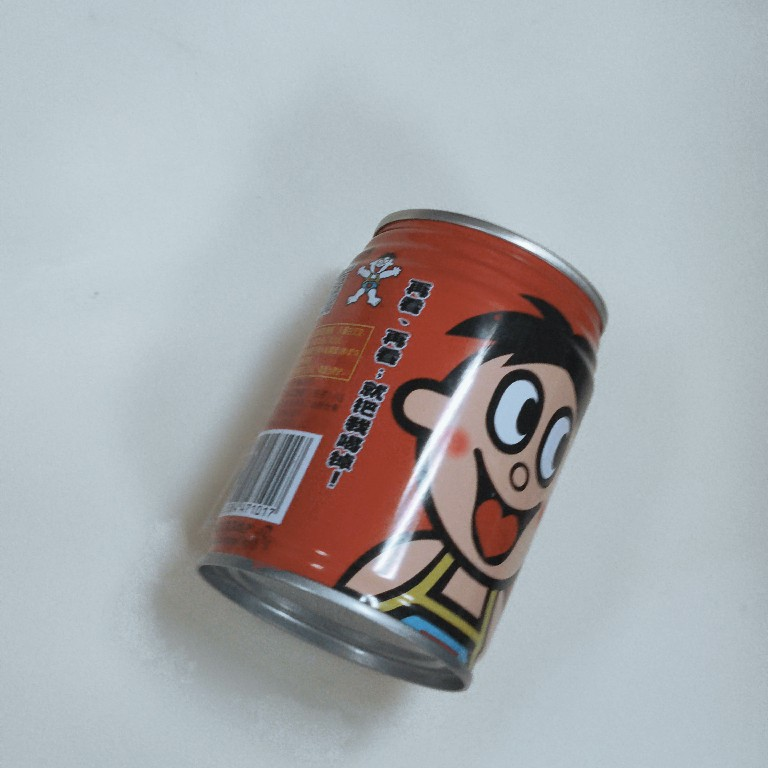can: (189, 206, 610, 696)
